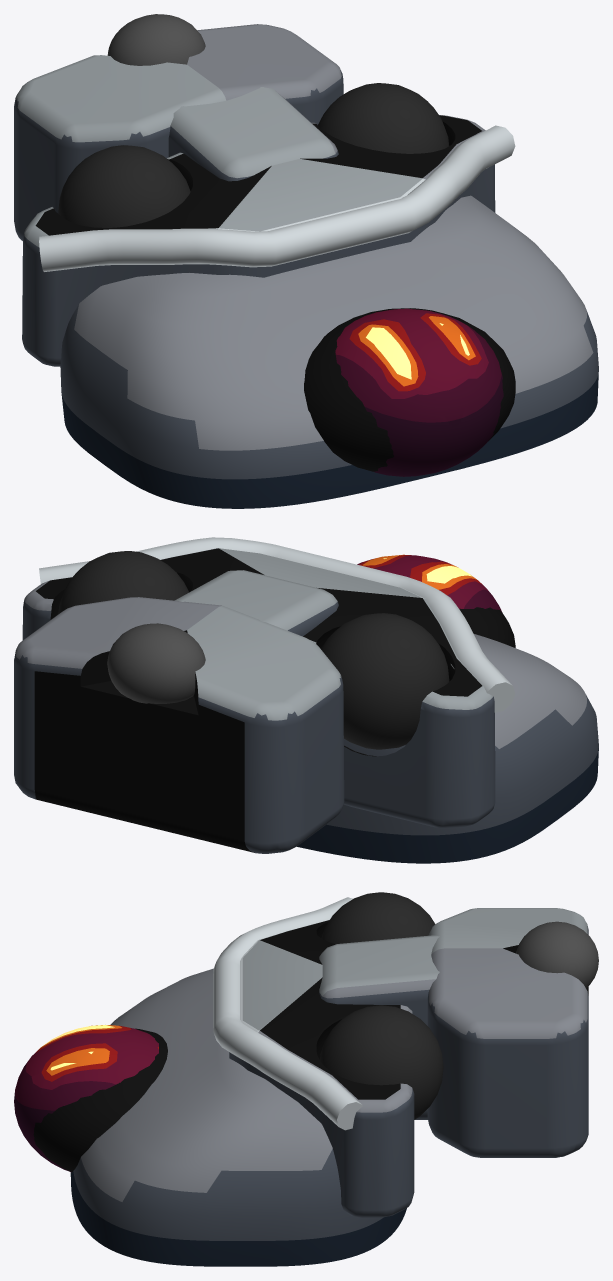
File: lens_pod_grey.glb
3 views of the same model, one above another, from view 1: azimuth 30°, elevation 25°; view 2: azimuth 150°, elevation 25°; view 3: azimuth 270°, elevation 25° (orthographic). The views are drawn at different scales.
Visible parts, largest first — view 1: body, hood, yoke, lens, bead, neck, ball0, cup, ball1, knob; view 2: hood, yoke, body, ball0, bead, knob, neck, ball1, lens, cup; view 3: body, hood, yoke, lens, bead, ball1, neck, cup, ball0, knob.
Boxes of the visible parts, x1,y1,x2,y2 form: body: (60,195,598,508); hood: (14,24,343,240); yoke: (22,115,495,366); lens: (335,308,503,476); bead: (39,125,515,271); neck: (168,87,338,181); ball0: (58,145,190,227); cup: (304,308,515,471); ball1: (318,83,449,153); knob: (107,14,205,65); hood: (14,597,344,853); yoke: (22,548,495,828); body: (297,634,598,863); ball0: (321,613,449,749); bead: (39,537,515,712); knob: (107,623,205,703); neck: (175,570,338,636); ball1: (58,551,189,613); lens: (357,554,502,613); cup: (459,607,515,647); body: (70,968,406,1266); hood: (427,908,588,1157); yoke: (229,919,414,1217); lens: (14,1025,158,1172); bead: (213,897,362,1130); ball1: (320,1005,443,1119); neck: (319,935,439,1119); cup: (33,1028,167,1171); ball0: (321,892,434,944); knob: (516,921,598,987).
Bounding box in the file's own units: 21.96 × 11.7 × 25.8.
